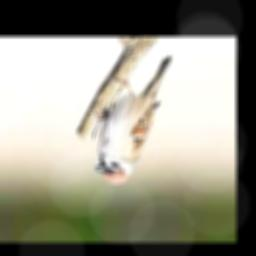Sparrow: (95, 56, 171, 185)
